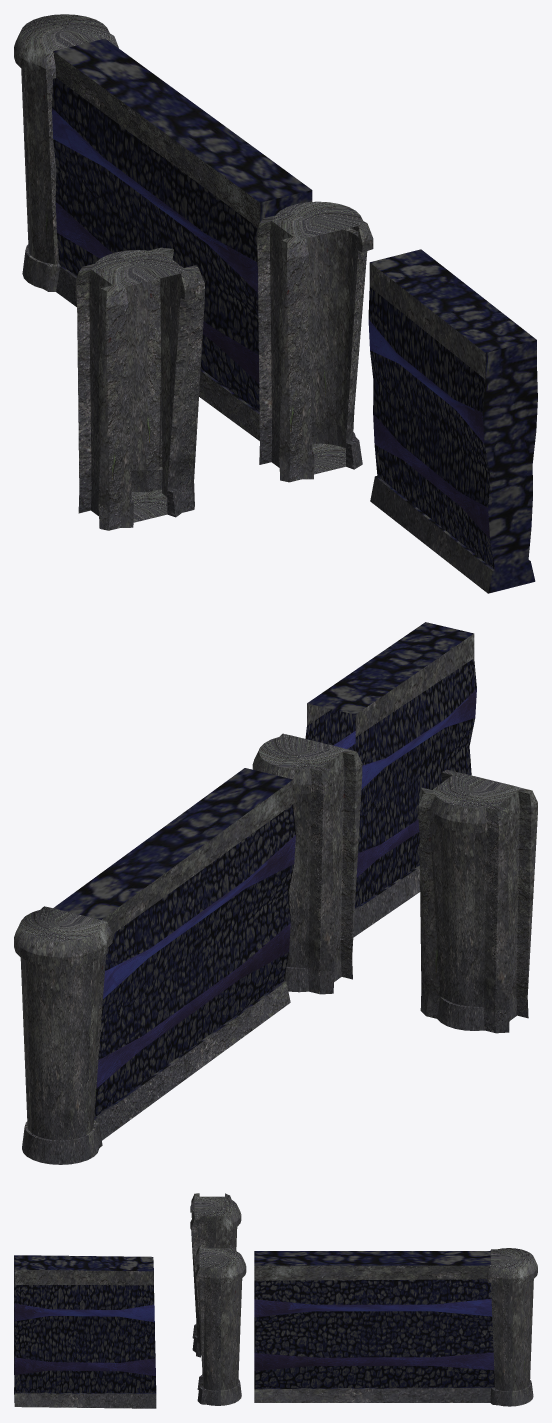
File: wall pieces.fbx
The picture shows the model from 3 angles, top to bottom: view 1: azimuth 30°, elevation 25°; view 2: azimuth 150°, elevation 25°; view 3: azimuth 270°, elevation 25°; orthographic projection. The views are drawn at different scales.
Visible parts, largest first — view 1: polySurface44, polySurface94, pCylinder9_polySurface95_polySurface95, polySurface45, polySurface43; view 2: polySurface44, polySurface94, pCylinder9_polySurface95_polySurface95, polySurface43, polySurface45; view 3: polySurface44, polySurface94, polySurface45, polySurface43, pCylinder9_polySurface95_polySurface95.
Part boxes in pixels (x1,y1,x2,y2): polySurface44: (52,38,312,440); polySurface94: (368,249,537,593); pCylinder9_polySurface95_polySurface95: (76,247,204,530); polySurface45: (256,201,373,482); polySurface43: (14,14,118,291); polySurface44: (53,768,295,1140); polySurface94: (305,622,476,937); pCylinder9_polySurface95_polySurface95: (418,769,537,1033); polySurface43: (14,906,112,1164); polySurface45: (252,733,362,994); polySurface44: (254,1251,494,1402); polySurface94: (14,1255,156,1408); polySurface45: (195,1244,246,1405); polySurface43: (487,1248,537,1406); pCylinder9_polySurface95_polySurface95: (190,1193,241,1357).
Size of the model in its own units: 1.45 by 1.17 by 4.03.
Materials: 3 (3 with a texture image).
